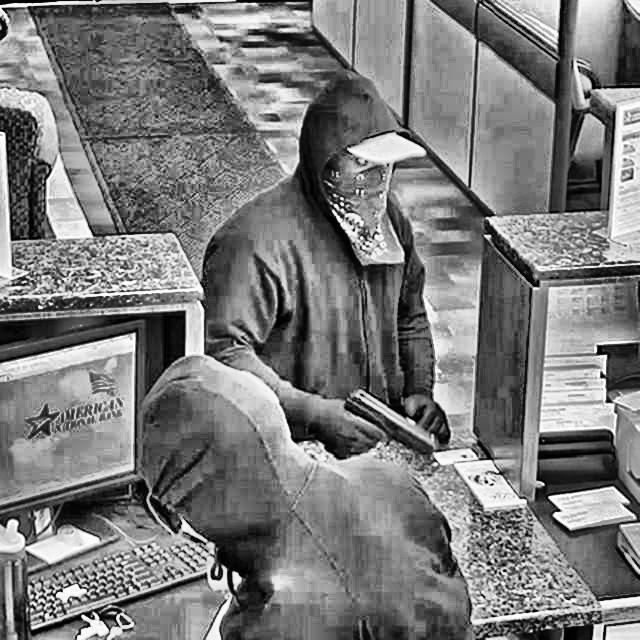robbery: (126, 69, 468, 640)
